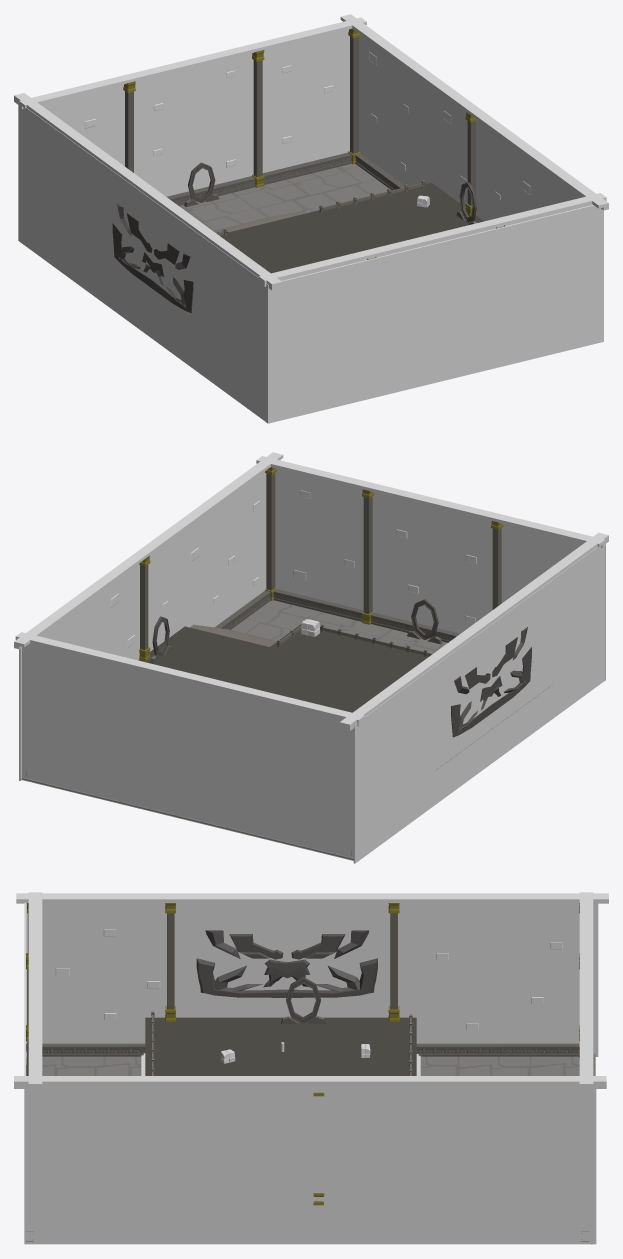
Rendered from main02.fbx.
3 renders of one model, top to bottom at view 1: azimuth 30°, elevation 25°; view 2: azimuth 150°, elevation 25°; view 3: azimuth 270°, elevation 25°, orthographic. The views are drawn at different scales.
Visible parts, largest first — view 1: object 1, Box072, Box019, 1, Object075, Box061, Object074, portal007, Object076, 펜스; view 2: object 1, Box072, Box019, 1, Object075, Object074, Box061, portal007, Object076, 펜스, Object040; view 3: object 1, Box072, Box019, Box061, 1, Object074, Object075, portal007, Object076, 펜스.
Part boxes in pixels (x1=…): object 1: x1=18, y1=29, x2=603, y2=423; Box072: x1=14, y1=14, x2=608, y2=290; Box019: x1=97, y1=183, x2=483, y2=350; 1: x1=179, y1=163, x2=391, y2=230; Object075: x1=123, y1=28, x2=504, y2=259; Box061: x1=112, y1=203, x2=193, y2=312; Object074: x1=166, y1=152, x2=404, y2=205; portal007: x1=184, y1=162, x2=476, y2=224; Object076: x1=84, y1=51, x2=530, y2=200; 펜스: x1=216, y1=180, x2=425, y2=235; object 1: x1=19, y1=469, x2=605, y2=863; Box072: x1=14, y1=452, x2=608, y2=730; Box019: x1=138, y1=624, x2=548, y2=770; 1: x1=21, y1=600, x2=447, y2=859; Object075: x1=139, y1=467, x2=503, y2=661; Object074: x1=22, y1=589, x2=459, y2=855; Box061: x1=451, y1=627, x2=531, y2=737; portal007: x1=150, y1=599, x2=442, y2=663; Object076: x1=110, y1=490, x2=476, y2=647; 펜스: x1=277, y1=624, x2=432, y2=657; Object040: x1=190, y1=624, x2=276, y2=646; object 1: x1=24, y1=902, x2=598, y2=1244; Box072: x1=14, y1=892, x2=608, y2=1091; Box019: x1=145, y1=1017, x2=416, y2=1075; Box061: x1=196, y1=930, x2=377, y2=997; 1: x1=42, y1=1053, x2=595, y2=1075; Object074: x1=26, y1=1043, x2=589, y2=1241; Object075: x1=26, y1=903, x2=579, y2=1205; portal007: x1=281, y1=977, x2=325, y2=1023; Object076: x1=26, y1=929, x2=562, y2=1064; 펜스: x1=151, y1=1011, x2=412, y2=1075.
Bounding box in the file's own units: 3132 × 1235 × 4088.
